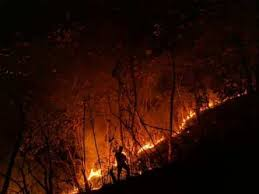fire: (64, 143, 106, 188), (165, 100, 210, 131), (138, 134, 182, 152)
